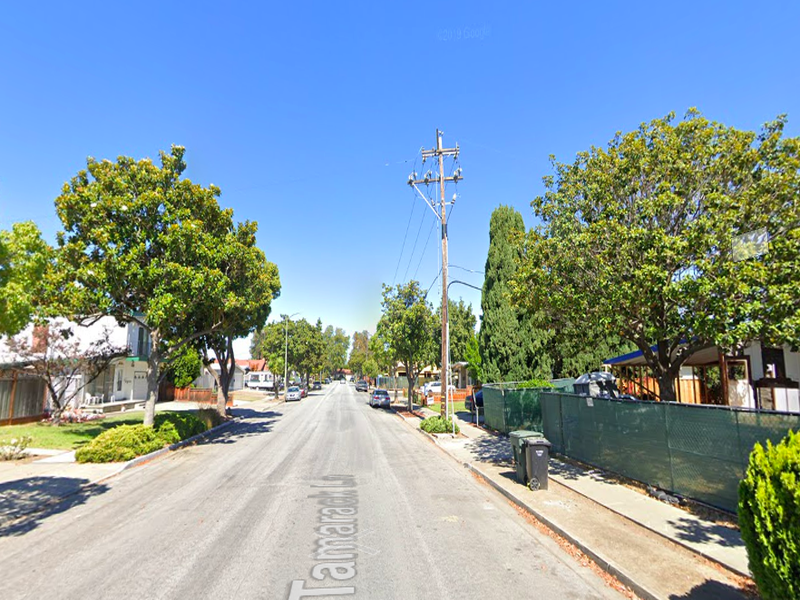tree: (501, 106, 800, 402), (53, 143, 281, 429)
utility_pole: (401, 118, 469, 221)
